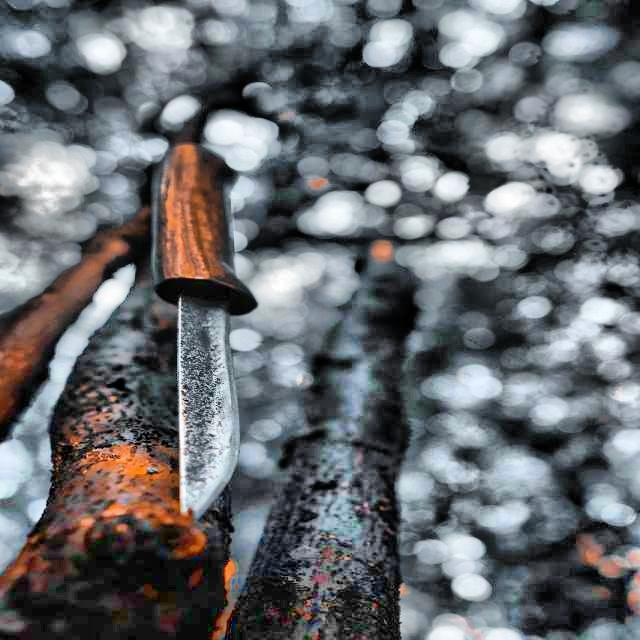knife: (157, 146, 259, 516)
